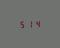five: (18, 20, 24, 28)
four: (33, 19, 39, 27)
one: (26, 20, 32, 27)
